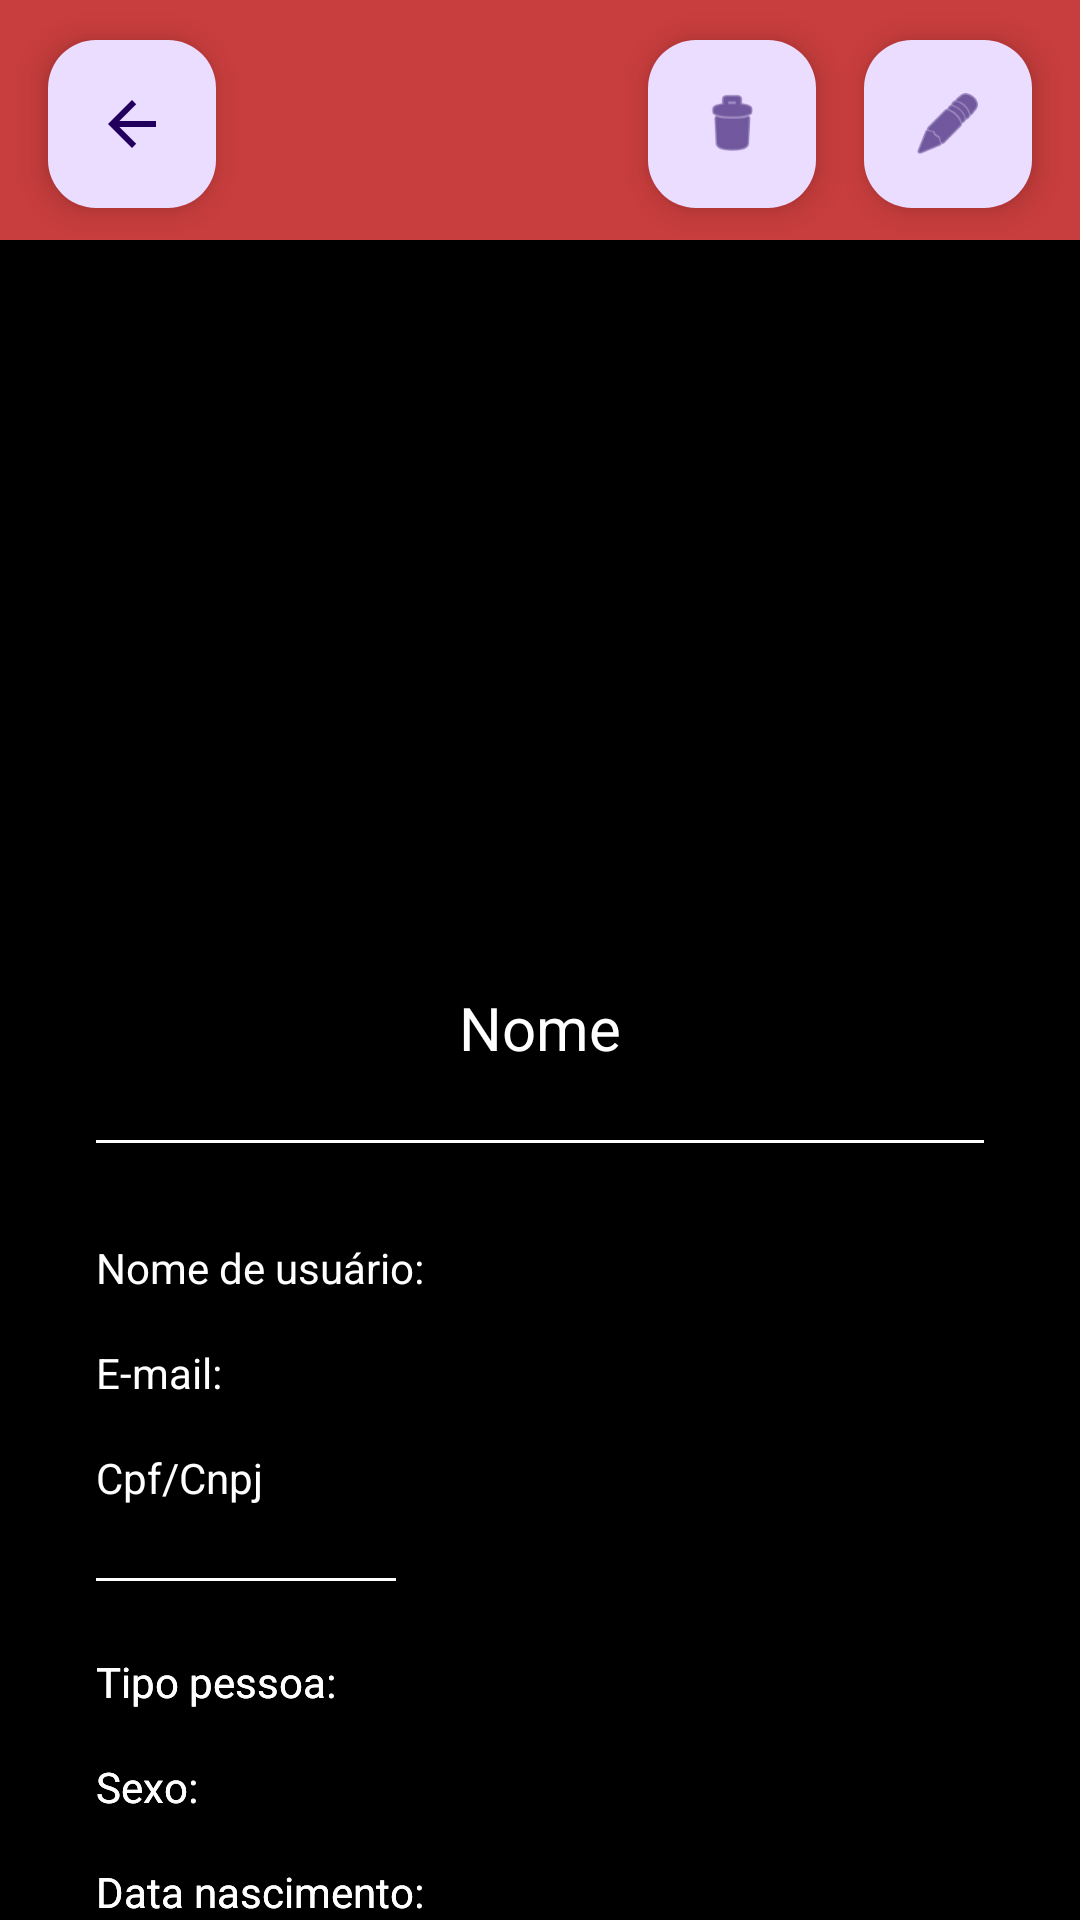

Where to tap for icons on this 1080*1920 app screen, as [x,y]:
delete: [732,124]
edit: [948,124]
